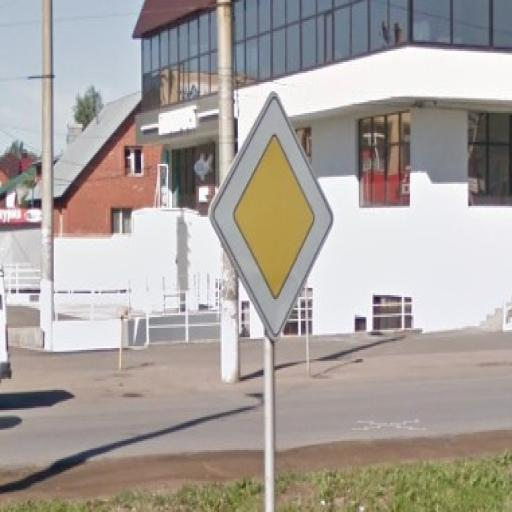traffic_sign: (210, 89, 335, 340)
